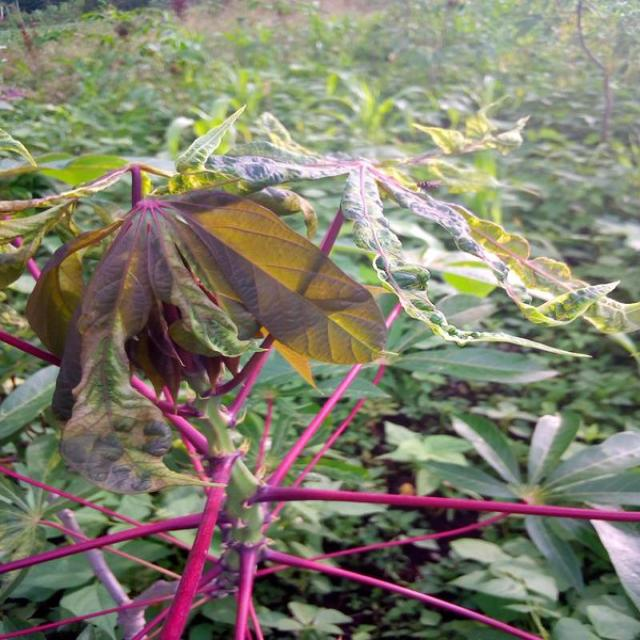cassava leaf: (49, 180, 388, 495)
